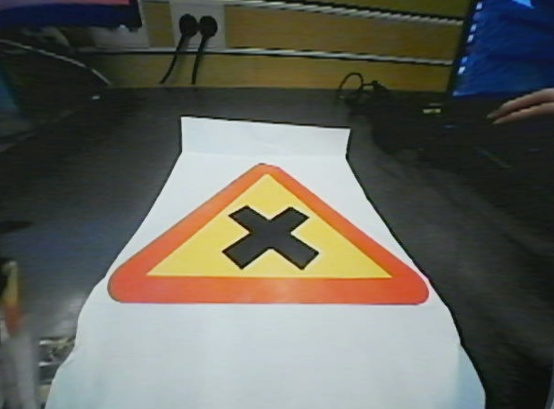junction: (96, 154, 436, 310)
